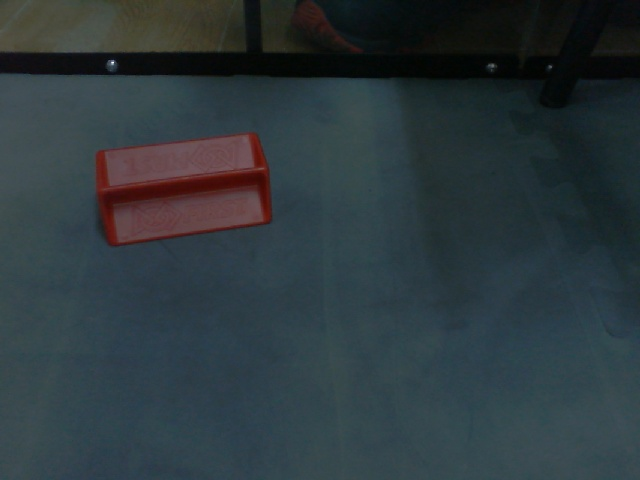RedSample: (93, 129, 275, 249)
